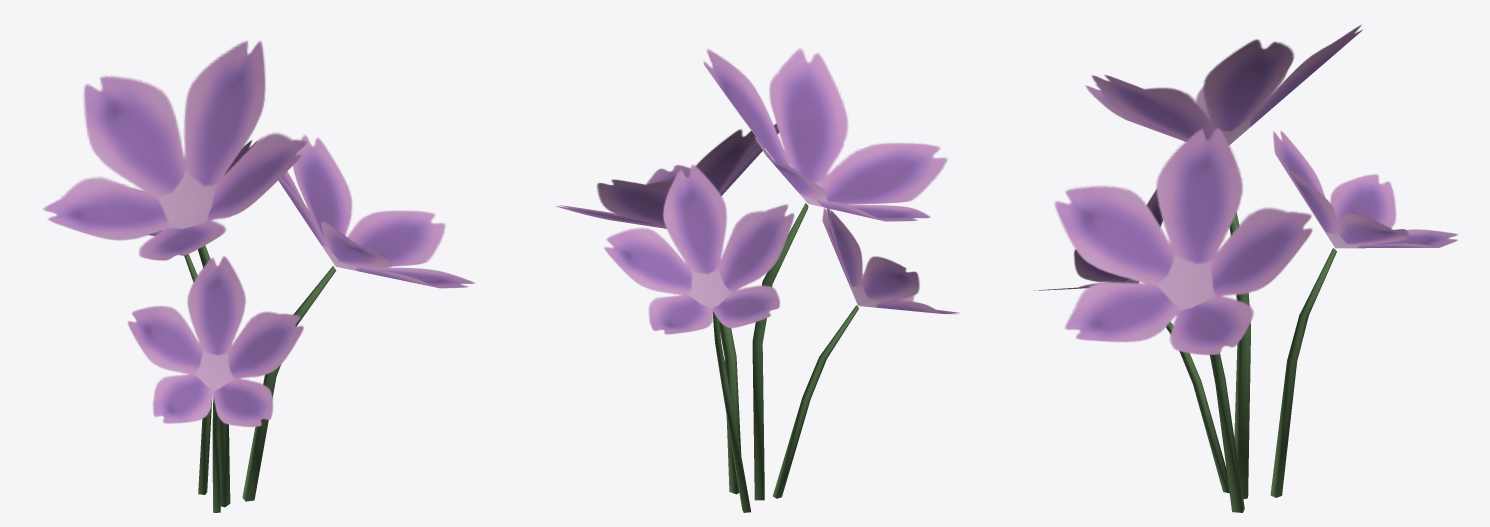
File: Flower_5_Clump.gltf
3 renders of one model, left to right at view 1: azimuth 30°, elevation 25°; view 2: azimuth 150°, elevation 25°; view 3: azimuth 270°, elevation 25°, orthographic. The views are drawn at different scales.
Visible parts, largest first — view 1: Flower_5_Clump; view 2: Flower_5_Clump; view 3: Flower_5_Clump.
Boxes of the visible parts, left/top/right/bottom form: Flower_5_Clump: left=43, top=40, right=475, bottom=512; Flower_5_Clump: left=556, top=48, right=959, bottom=512; Flower_5_Clump: left=1033, top=25, right=1457, bottom=512.
Bounding box in the file's own units: 0.426 × 0.4508 × 0.3735.
Materials: 1 (1 with a texture image).
